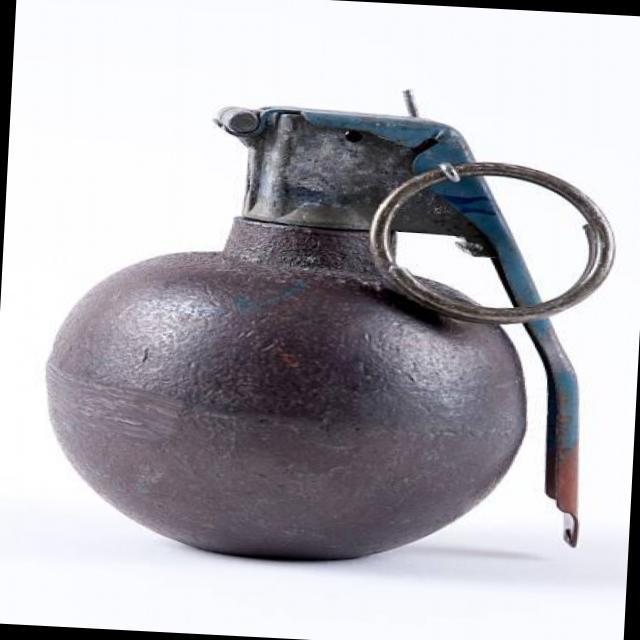grenade: (24, 80, 628, 588)
